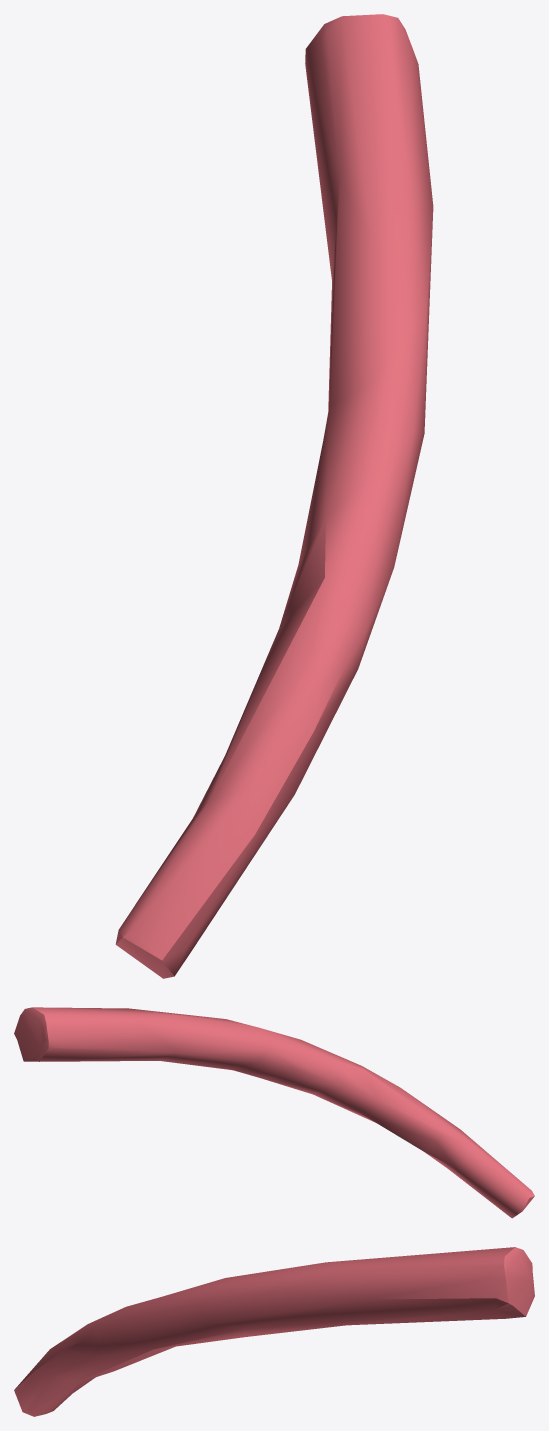
Rendered from fma68683_fj2977.glb.
3 views of the same model, one above another, from view 1: azimuth 30°, elevation 25°; view 2: azimuth 150°, elevation 25°; view 3: azimuth 270°, elevation 25° (orthographic). The views are drawn at different scales.
Parts seen in each view (by area): view 1: FMA68683_FJ2977; view 2: FMA68683_FJ2977; view 3: FMA68683_FJ2977.
Part boxes in pixels (x1,y1,x2,y2): FMA68683_FJ2977: (115,14,433,978); FMA68683_FJ2977: (14,1007,534,1218); FMA68683_FJ2977: (14,1247,534,1416).
Size of the model in its own units: 0.0188 by 0.0147 by 0.0203.
